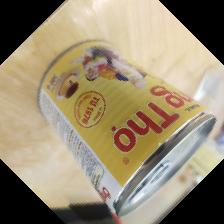Ong_tho: (33, 38, 216, 219)
